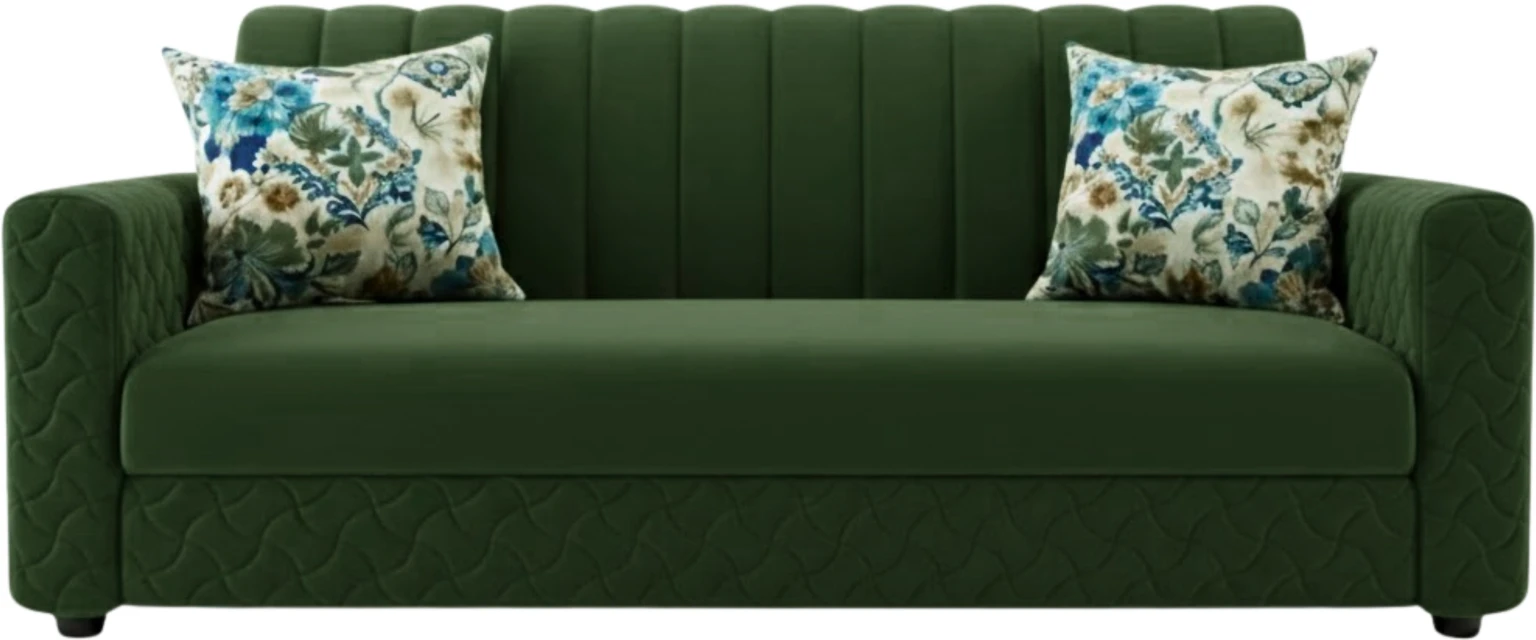3seatersofa: (5, 5, 1535, 637)
backrest: (236, 6, 1304, 299)
base: (119, 476, 1411, 606)
leftarmrest: (1344, 175, 1532, 616)
pillow: (164, 34, 522, 323), (1028, 43, 1374, 321)
rightarmrest: (0, 175, 199, 619)
seat: (120, 300, 1429, 475)
